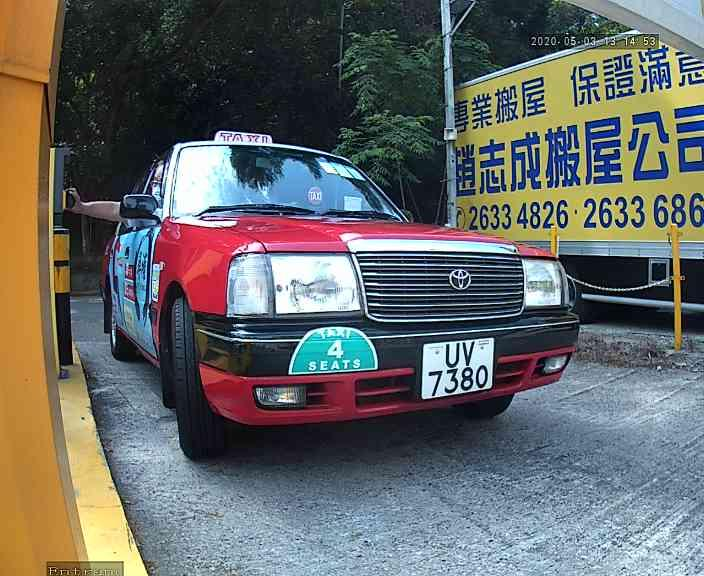Car: (89, 39, 601, 469)
License Plate: (412, 332, 503, 402)
